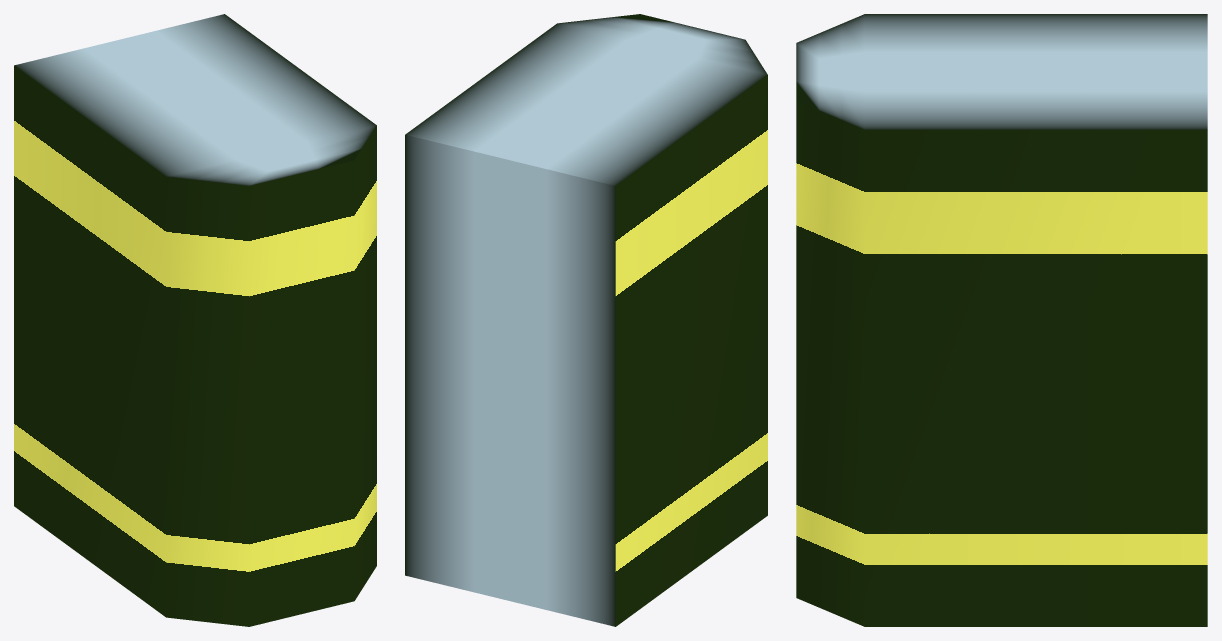
Rendered from book_00.gltf.
3 renders of one model, left to right at view 1: azimuth 30°, elevation 25°; view 2: azimuth 150°, elevation 25°; view 3: azimuth 270°, elevation 25°, orthographic. The views are drawn at different scales.
Bounding box in the file's own units: 2 × 4 × 3.
Materials: 1 (1 with a texture image).
